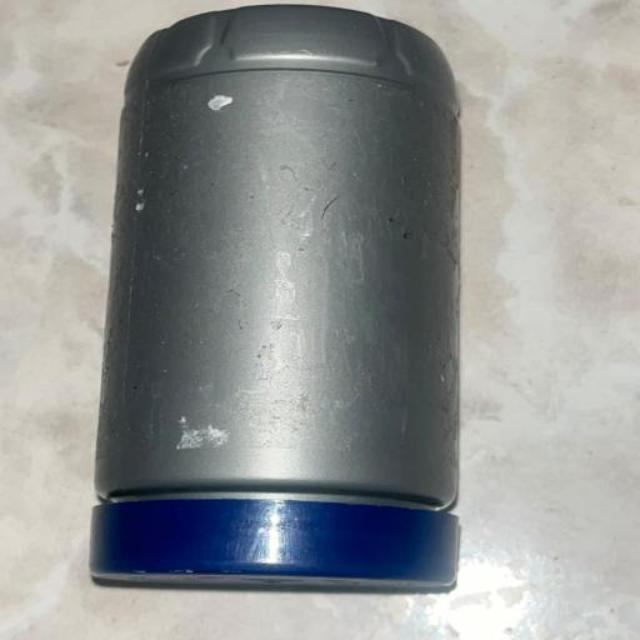HDPE: (39, 9, 621, 616)
